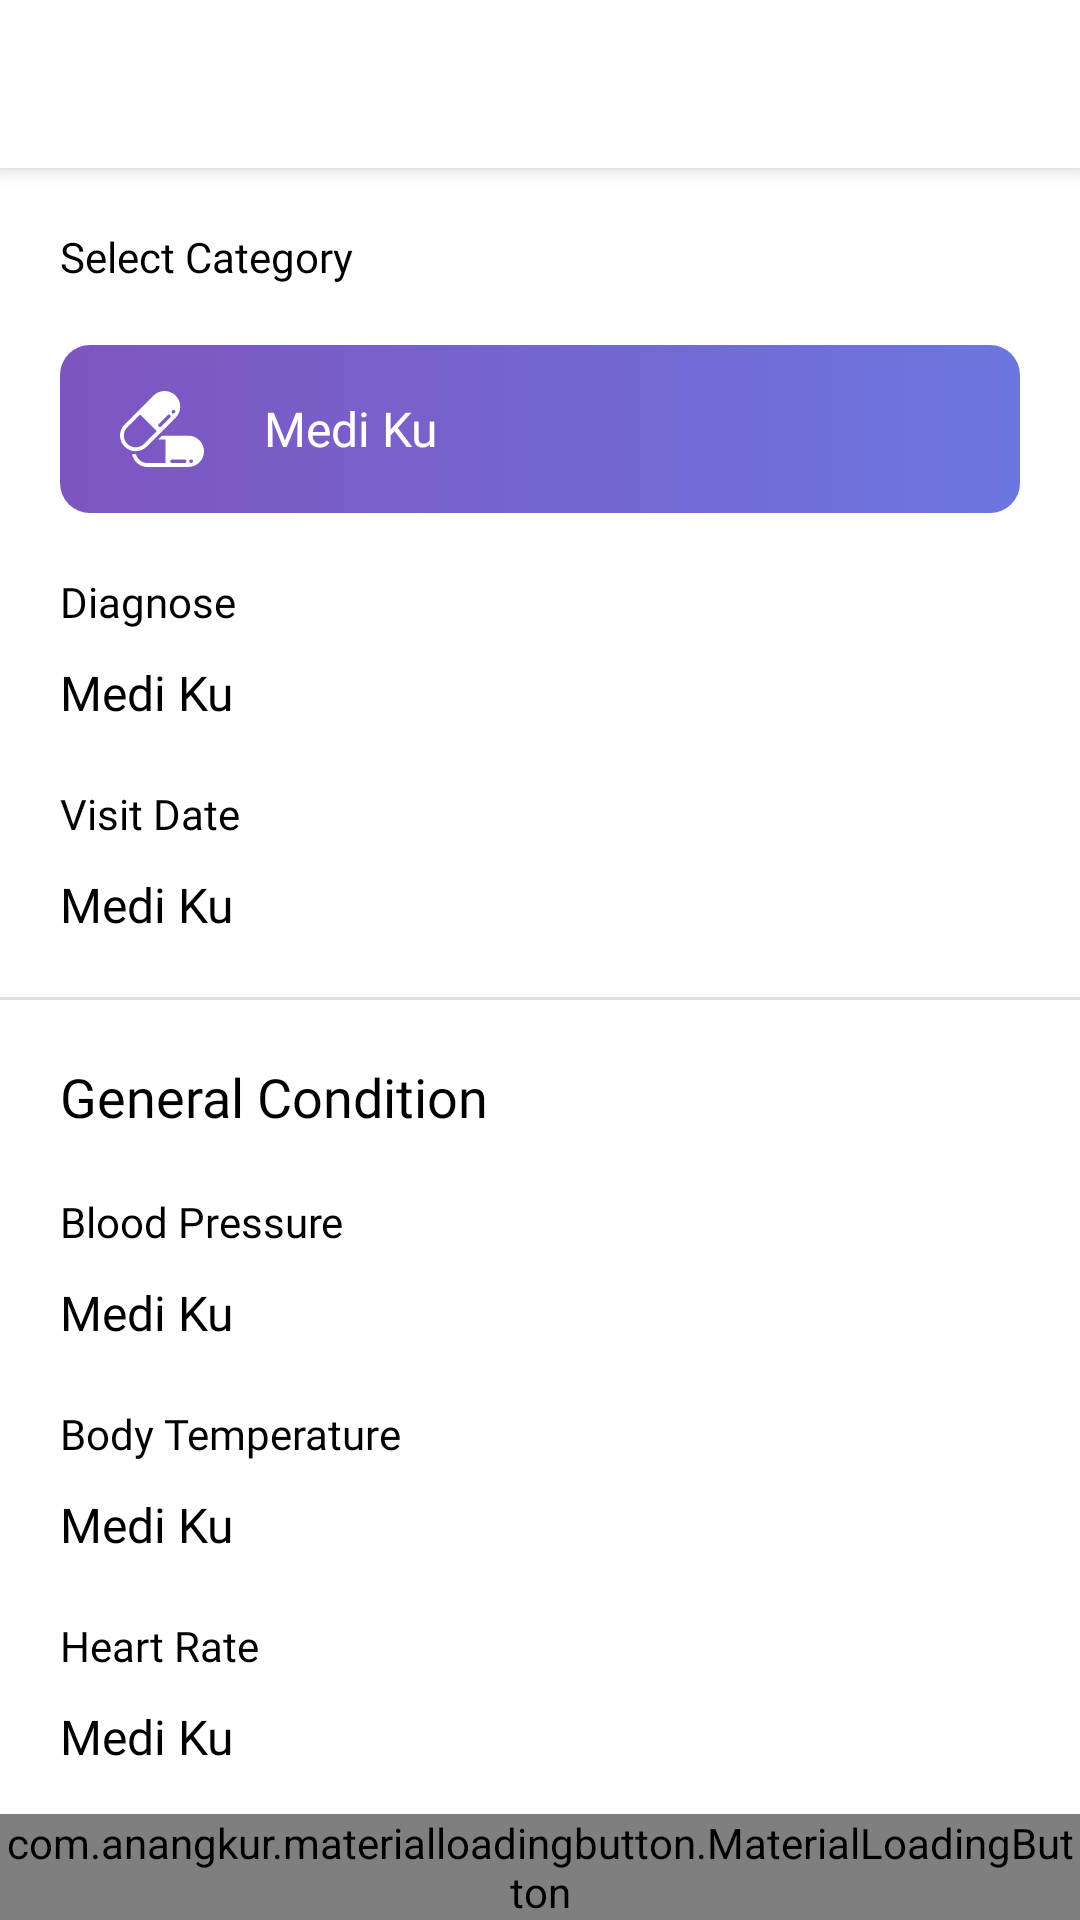

Named icons in this screenshot (1080 × 1920) and their centers, (x=x, y=y):
pills: (x=162, y=429)
